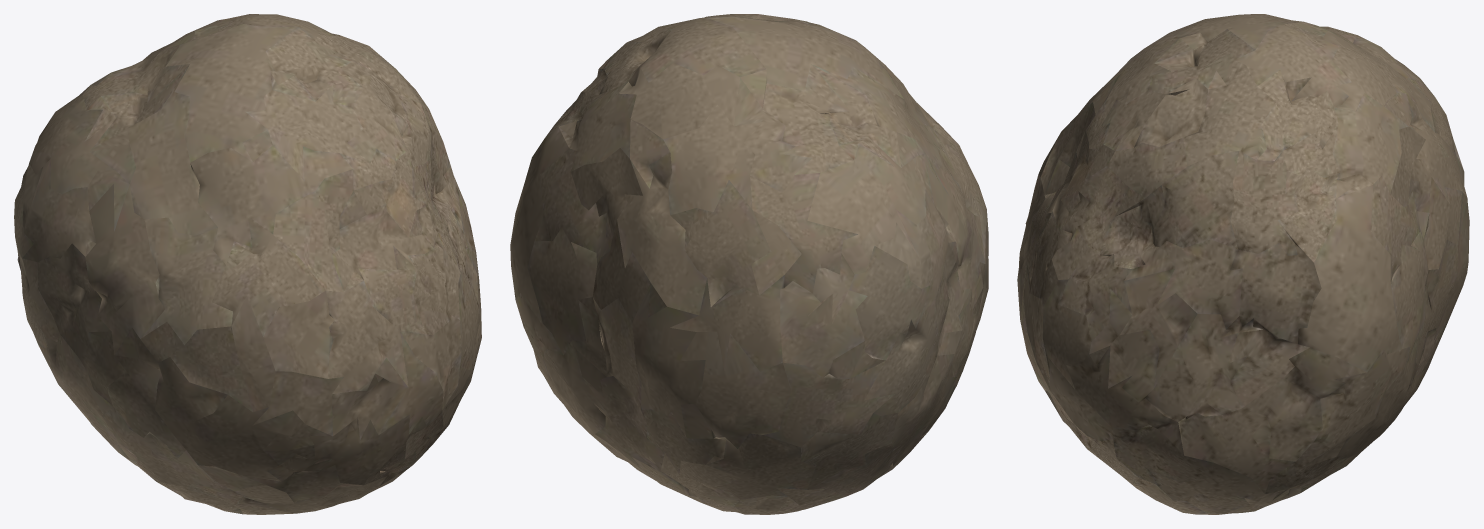
File: rock-model.glb
The picture shows the model from 3 angles, left to right: view 1: azimuth 30°, elevation 25°; view 2: azimuth 150°, elevation 25°; view 3: azimuth 270°, elevation 25°; orthographic projection. The views are drawn at different scales.
Parts seen in each view (by area): view 1: output_unwrapped; view 2: output_unwrapped; view 3: output_unwrapped.
Boxes of the visible parts, left/top/right/bottom form: output_unwrapped: left=14, top=14, right=481, bottom=514; output_unwrapped: left=510, top=14, right=988, bottom=514; output_unwrapped: left=1017, top=14, right=1469, bottom=514.
Bounding box in the file's own units: 1.67 × 1.9 × 1.69.
Materials: 1 (1 with a texture image).
